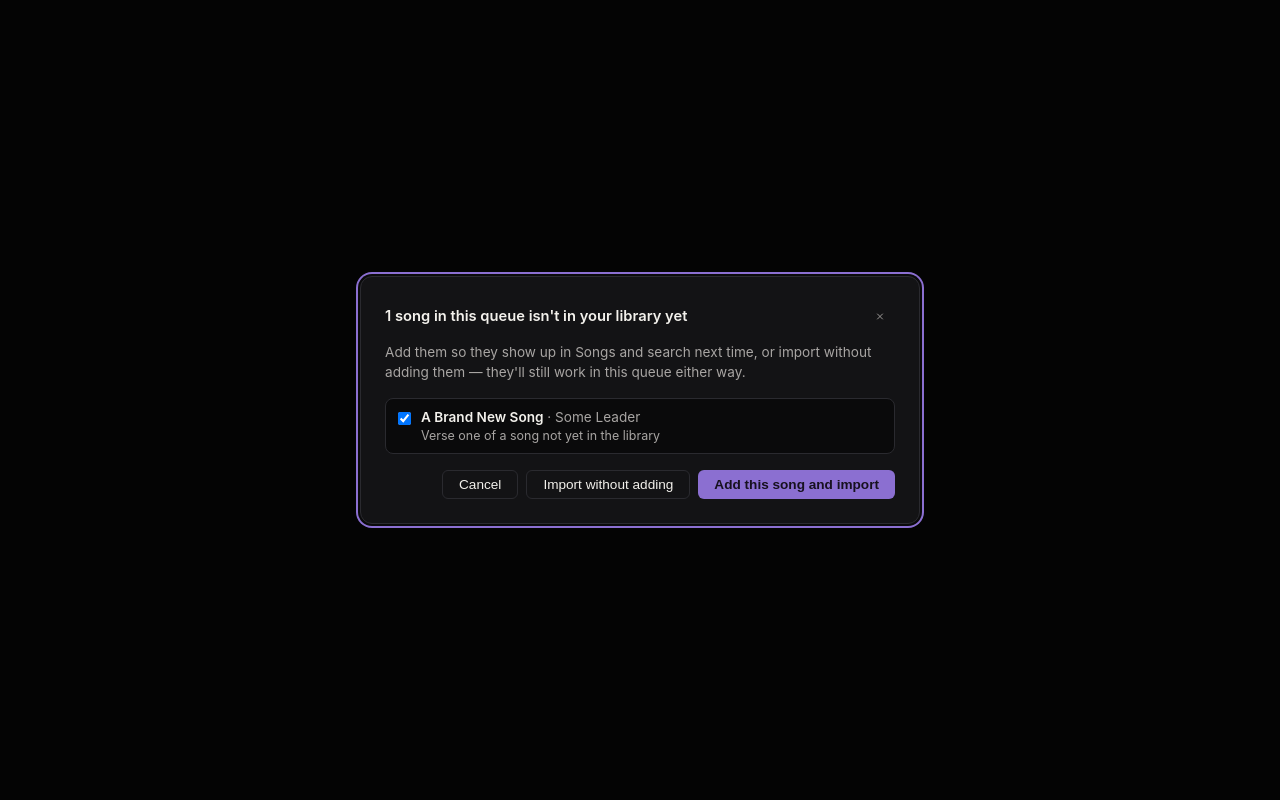
it: SongImportReview › unchecking a new song updates the primary button's own label to match
Step 1. Click the checkbox → (404, 418), box [398,412,411,424]
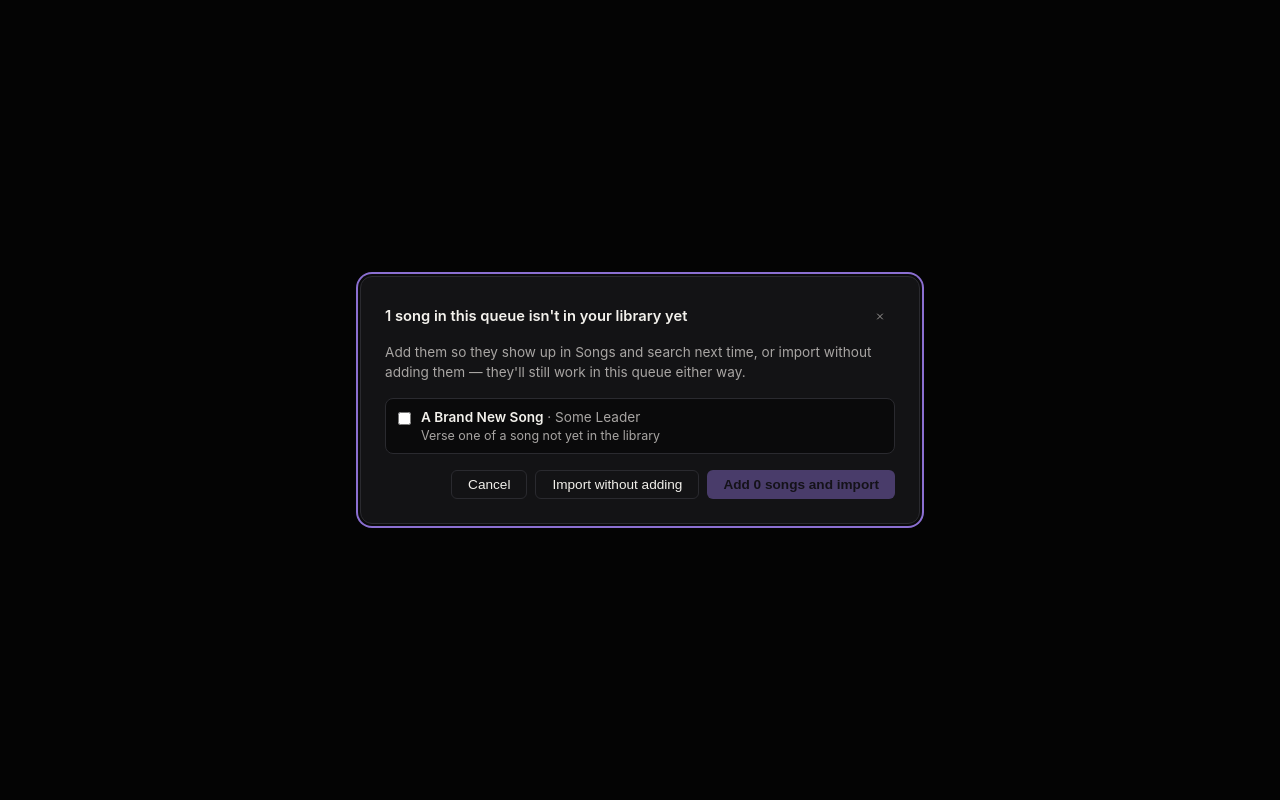
Expected: the button "Add 0 songs and import" is shown, [707,470,895,498]
